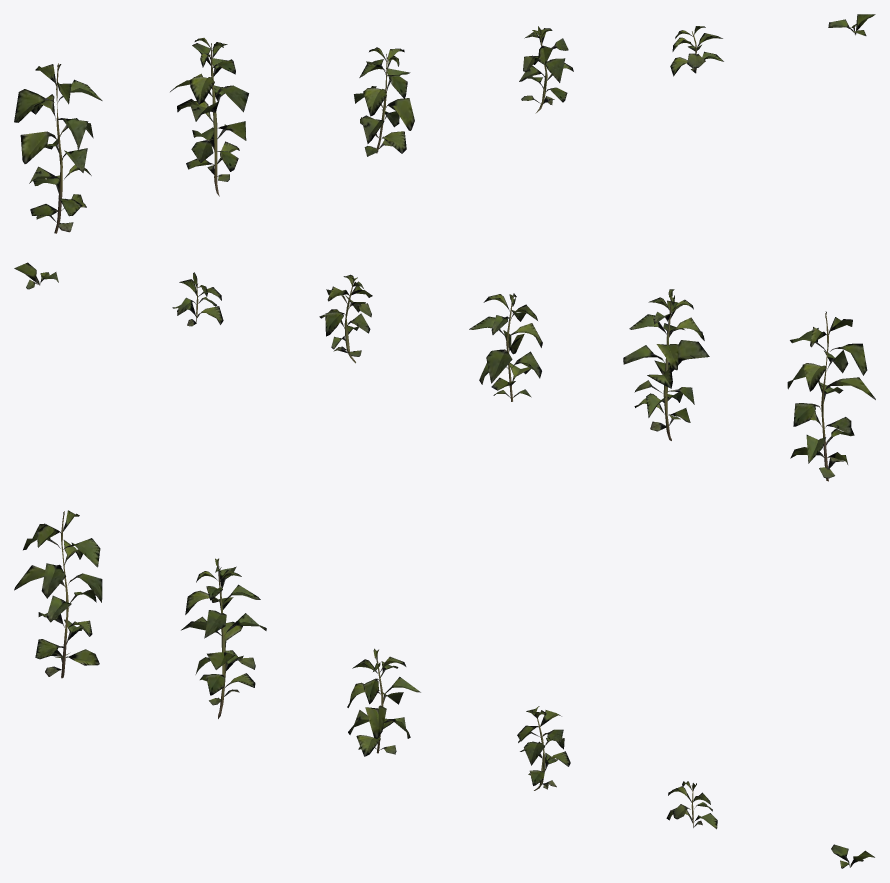
The model's file is nettle_plant_lod2.glb.
The picture shows the model from 3 angles, top to bottom: view 1: azimuth 30°, elevation 25°; view 2: azimuth 150°, elevation 25°; view 3: azimuth 330°, elevation 25°; orthographic projection.
Parts seen in each view (by area): view 1: nettle_plant_medium_a_LOD0; view 2: nettle_plant_medium_a_LOD0; view 3: nettle_plant_medium_a_LOD0.
Boxes of the visible parts, x1,y1,x2,y2 form: nettle_plant_medium_a_LOD0: [14, 14, 875, 233]; nettle_plant_medium_a_LOD0: [14, 262, 875, 481]; nettle_plant_medium_a_LOD0: [14, 510, 874, 868].
Size of the model in its own units: 1.08 by 0.2049 by 0.0947.
1 material, 1 textured.
